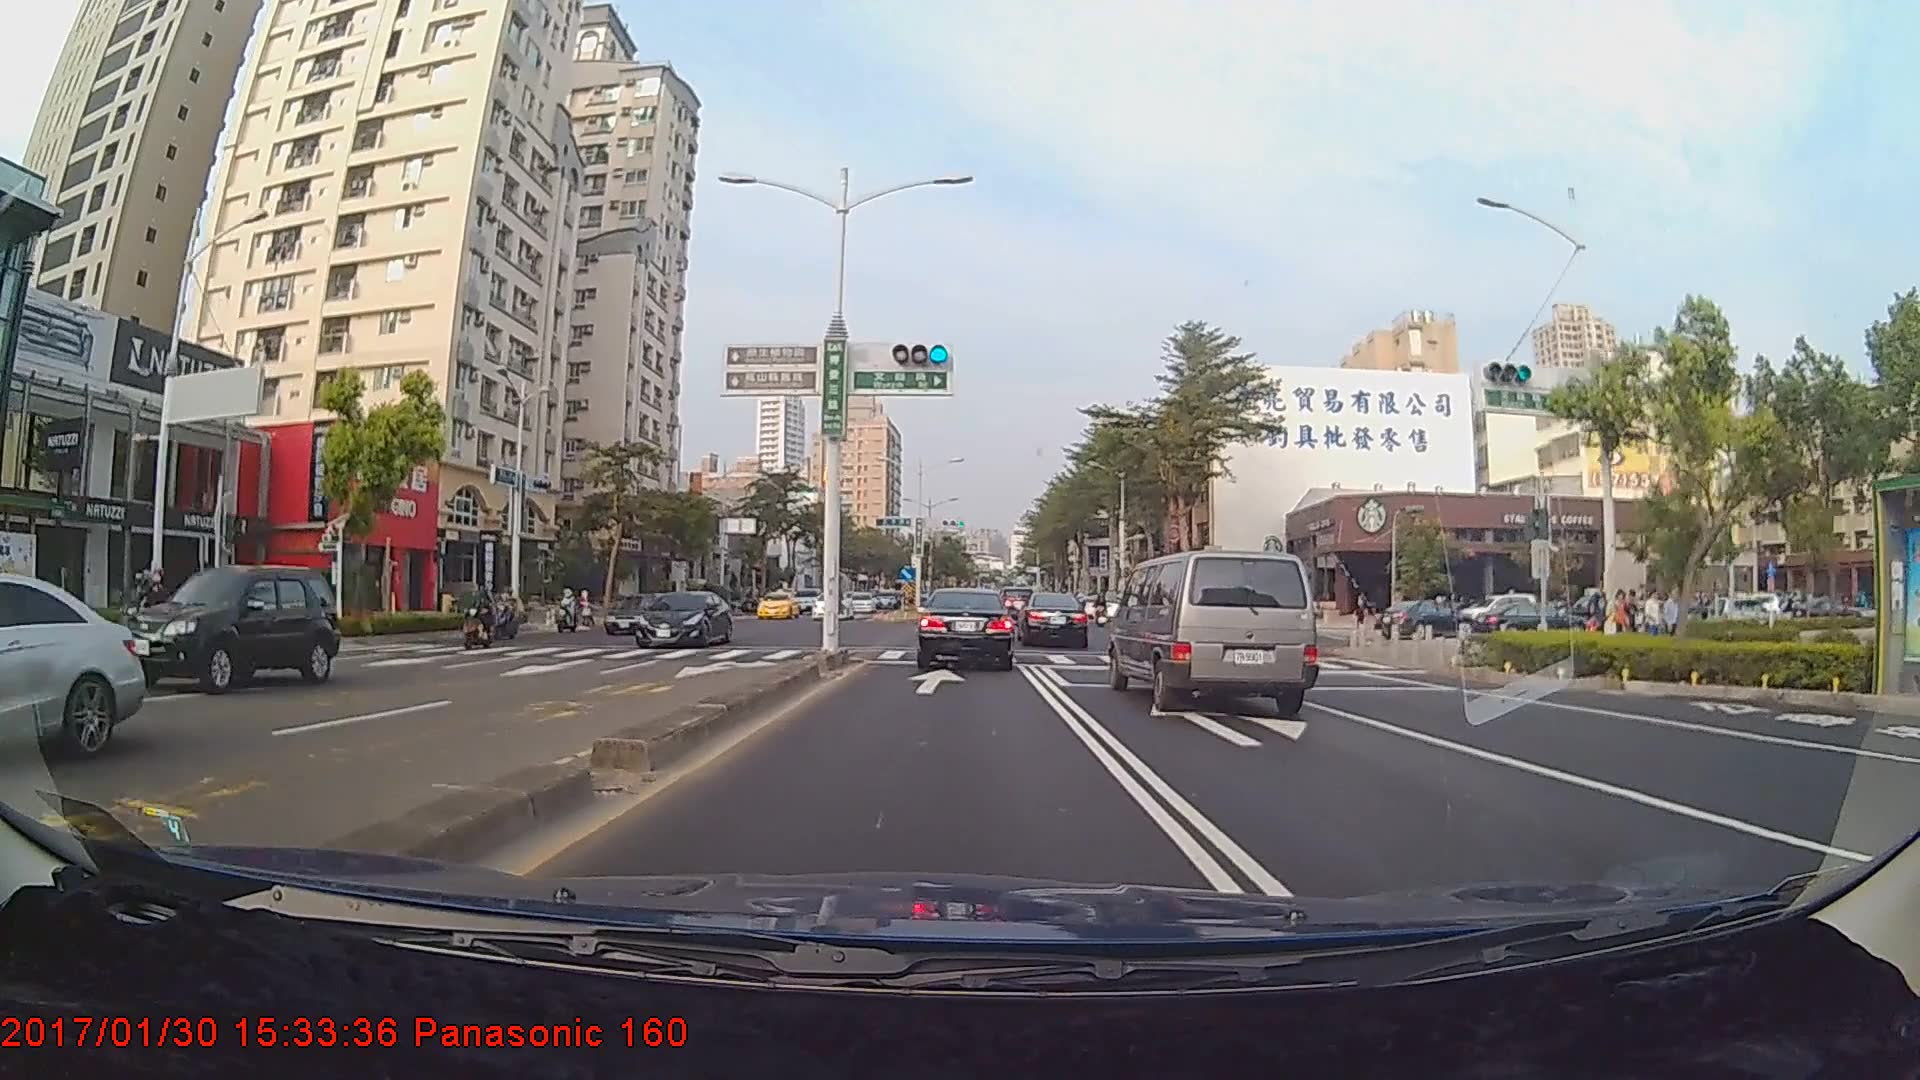pedestrian: (1663, 585, 1684, 650), (1644, 588, 1664, 646)
rider: (114, 556, 182, 648), (459, 579, 505, 653)
vehicle: (1110, 546, 1321, 717), (0, 565, 148, 786), (112, 563, 343, 693), (916, 587, 1016, 669), (631, 589, 734, 652), (1379, 599, 1470, 643), (1019, 592, 1089, 648), (602, 588, 681, 630), (808, 587, 857, 620), (754, 587, 800, 617), (846, 590, 876, 613)
